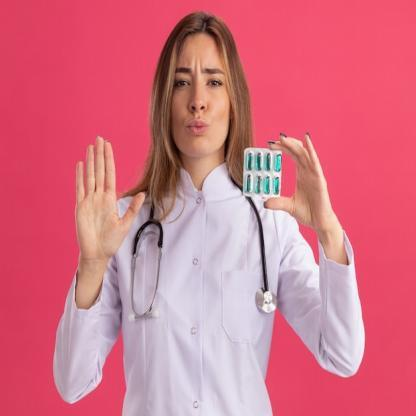stop: (74, 131, 148, 272)
